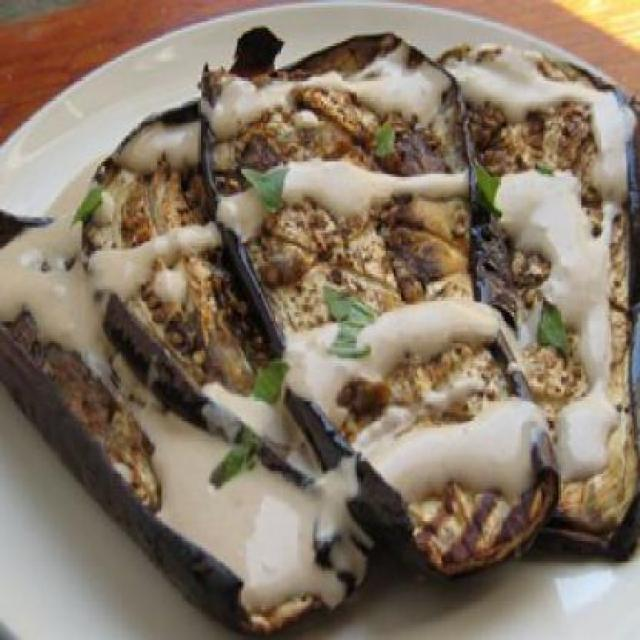hummus: (9, 67, 608, 576)
